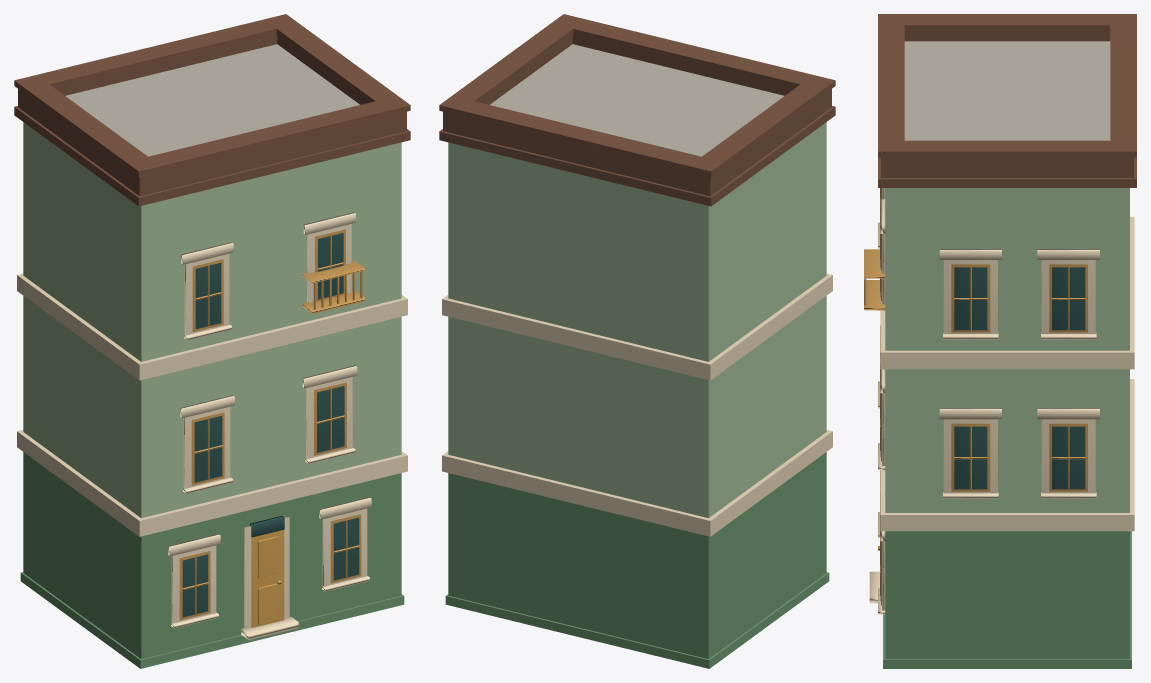
File: building_townhouse_sage.glb
The picture shows the model from 3 angles, left to right: view 1: azimuth 30°, elevation 25°; view 2: azimuth 150°, elevation 25°; view 3: azimuth 270°, elevation 25°; orthographic projection. The views are drawn at different scales.
Parts seen in each view (by area): view 1: WallUpper, WallGround, Roof, ParapetCap, Parapet, Band0, Band1, Cornice, Plinth, F2W0Glass, DoorLeaf, F2W1Glass (+26 smaller); view 2: WallUpper, WallGround, Roof, ParapetCap, Parapet, Band0, Band1, Cornice, Plinth; view 3: WallUpper, WallGround, Roof, ParapetCap, Parapet, Band1, Band0, Plinth, Cornice, S3W1Glass, S2W1Glass, S3W0Glass (+15 smaller).
Boxes of the visible parts, x1=… form: WallUpper: x1=23, y1=122, x2=401, y2=518; WallGround: x1=23, y1=452, x2=401, y2=658; Roof: x1=65, y1=44, x2=359, y2=156; ParapetCap: x1=14, y1=14, x2=410, y2=176; Parapet: x1=18, y1=34, x2=406, y2=196; Band0: x1=17, y1=430, x2=407, y2=536; Band1: x1=17, y1=273, x2=407, y2=380; Cornice: x1=14, y1=106, x2=410, y2=206; Plinth: x1=20, y1=572, x2=404, y2=668; F2W0Glass: x1=194, y1=416, x2=222, y2=482; DoorLeaf: x1=251, y1=530, x2=284, y2=627; F2W1Glass: x1=317, y1=386, x2=344, y2=452; WallUpper: x1=448, y1=122, x2=826, y2=518; WallGround: x1=448, y1=452, x2=826, y2=658; Roof: x1=490, y1=44, x2=784, y2=156; ParapetCap: x1=439, y1=14, x2=835, y2=176; Parapet: x1=443, y1=34, x2=831, y2=196; Band0: x1=442, y1=430, x2=832, y2=536; Band1: x1=442, y1=273, x2=832, y2=380; Cornice: x1=439, y1=106, x2=835, y2=206; Plinth: x1=445, y1=572, x2=829, y2=668; WallUpper: x1=885, y1=188, x2=1129, y2=512; WallGround: x1=885, y1=531, x2=1129, y2=659; Roof: x1=904, y1=41, x2=1110, y2=140; ParapetCap: x1=878, y1=14, x2=1136, y2=157; Parapet: x1=881, y1=31, x2=1133, y2=177; Band1: x1=880, y1=216, x2=1134, y2=369; Band0: x1=880, y1=379, x2=1134, y2=531; Plinth: x1=883, y1=531, x2=1131, y2=668; Cornice: x1=878, y1=157, x2=1136, y2=187; S3W1Glass: x1=1052, y1=267, x2=1085, y2=330; S2W1Glass: x1=1052, y1=426, x2=1085, y2=489; S3W0Glass: x1=954, y1=267, x2=987, y2=330.
Size of the model in its own units: 4.64 by 8.16 by 3.88.
